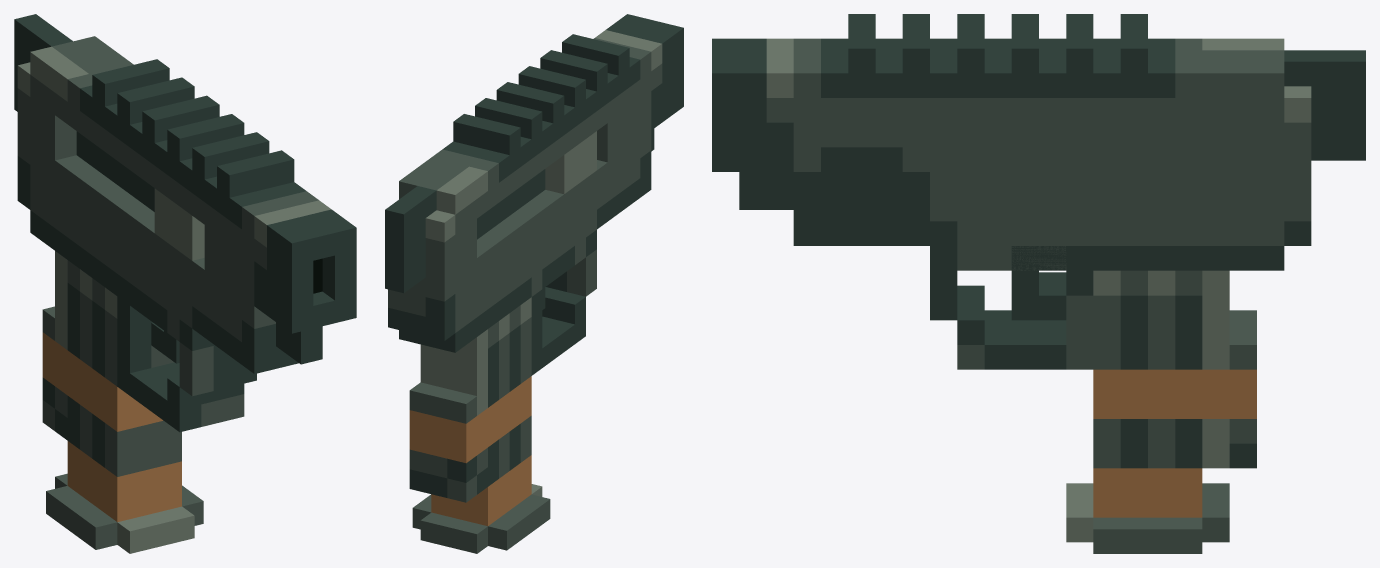
Rendered from Handgun.glb.
The picture shows the model from 3 angles, left to right: view 1: azimuth 30°, elevation 25°; view 2: azimuth 150°, elevation 25°; view 3: azimuth 270°, elevation 25°; orthographic projection. The views are drawn at different scales.
Visible parts, largest first — view 1: Gun_A; view 2: Gun_A; view 3: Gun_A.
Boxes of the visible parts, x1,y1,x2,y2 form: Gun_A: (14,14,356,553); Gun_A: (385,14,683,553); Gun_A: (712,14,1365,553).
Bounding box in the file's own units: 6.25 × 25 × 30.
1 material, 1 textured.
